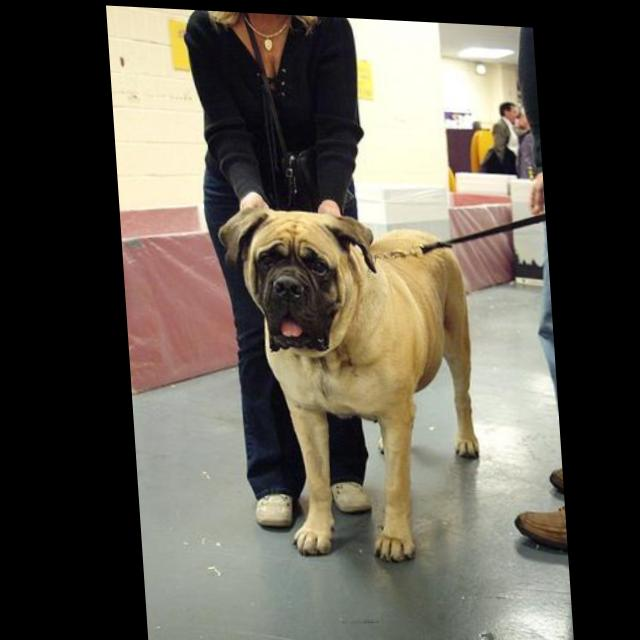bullmastiff: (215, 201, 484, 563)
person: (184, 9, 386, 531)
